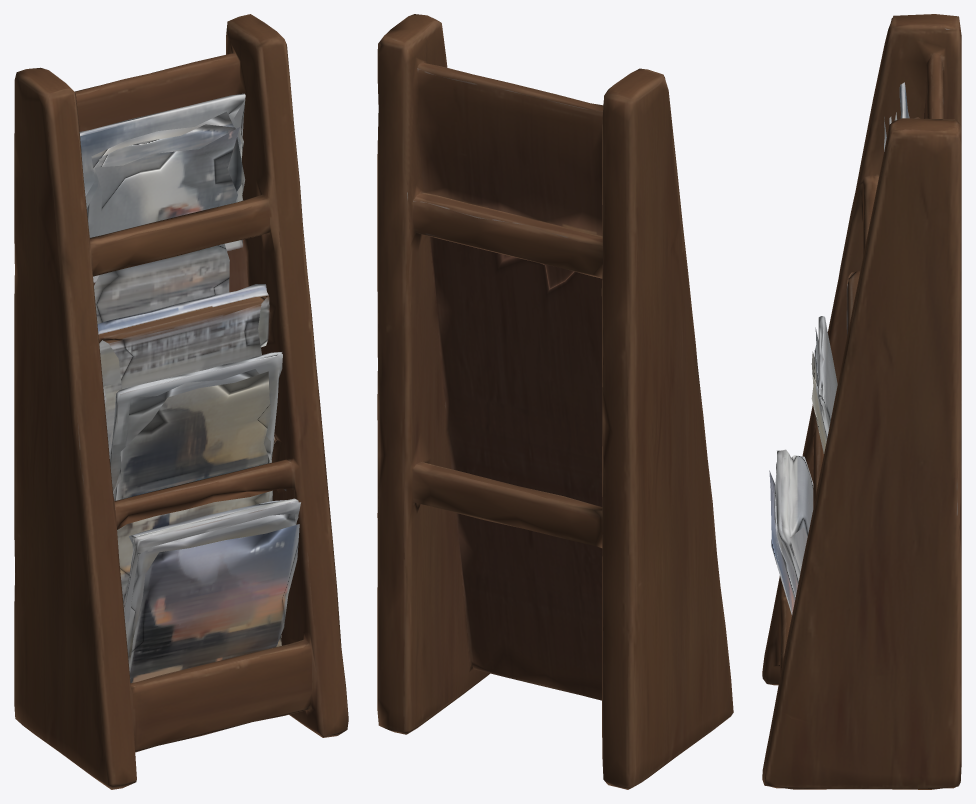
Rendered from library_MagazineStand.glb.
3 views of the same model, side by side, from view 1: azimuth 30°, elevation 25°; view 2: azimuth 150°, elevation 25°; view 3: azimuth 270°, elevation 25° (orthographic). The views are drawn at different scales.
Parts seen in each view (by area): view 1: world; view 2: world; view 3: world.
Part boxes in pixels (x1,y1,x2,y2): world: [14, 14, 348, 789]; world: [377, 14, 733, 789]; world: [762, 14, 961, 789].
Size of the model in its own units: 0.389 by 1 by 0.2741.
Materials: 1 (1 with a texture image).
